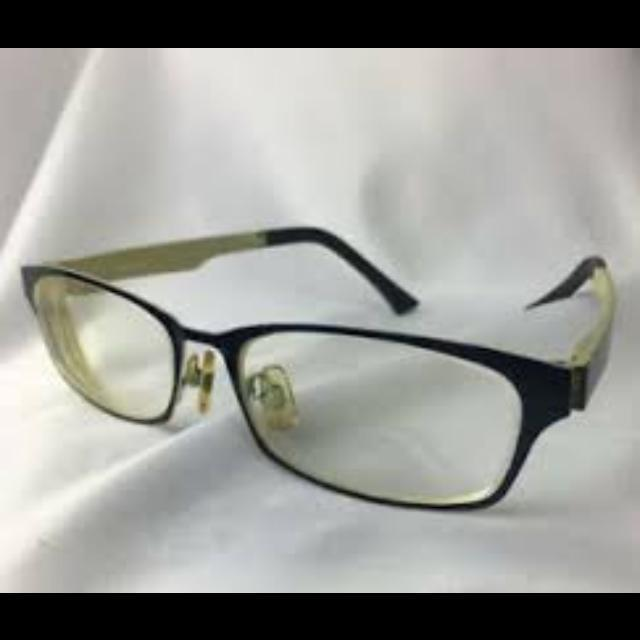glasses: (19, 224, 617, 514)
